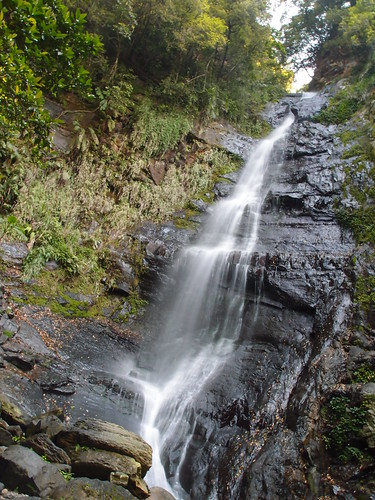wufengciWaterfall: (128, 73, 330, 485)
